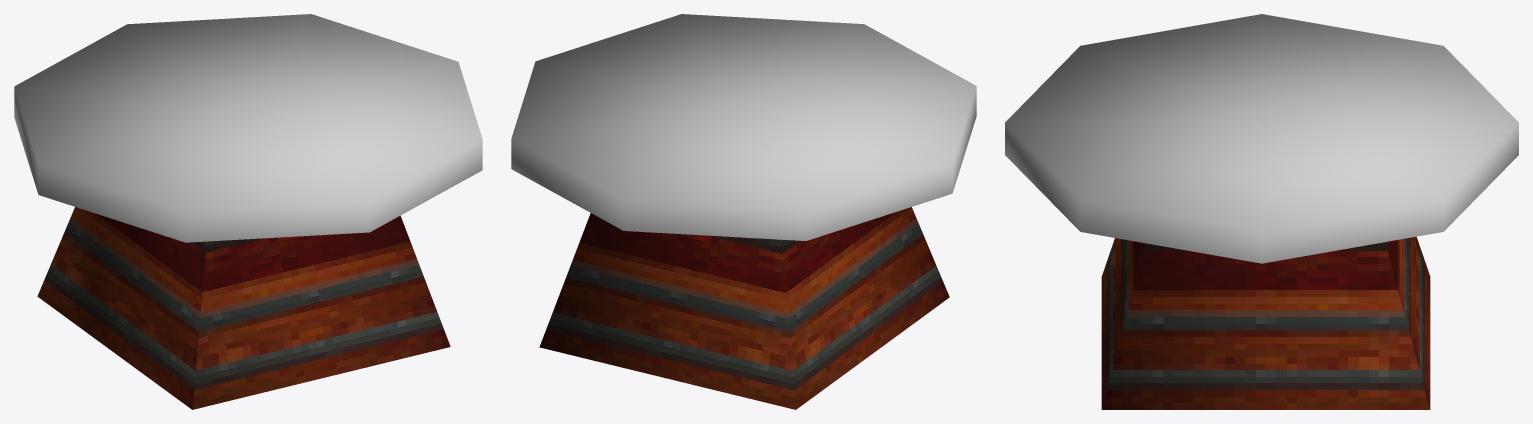
The model's file is ROUNDTABLE_ACTORDEF.fbx.
The picture shows the model from 3 angles, left to right: view 1: azimuth 30°, elevation 25°; view 2: azimuth 150°, elevation 25°; view 3: azimuth 270°, elevation 25°; orthographic projection. The views are drawn at different scales.
Parts seen in each view (by area): view 1: U3DMesh; view 2: U3DMesh; view 3: U3DMesh.
Boxes of the visible parts, left/top/right/bottom form: U3DMesh: left=14, top=14, right=482, bottom=409; U3DMesh: left=511, top=14, right=976, bottom=409; U3DMesh: left=1005, top=14, right=1518, bottom=409.
Size of the model in its own units: 7.28 by 3.47 by 7.28.
